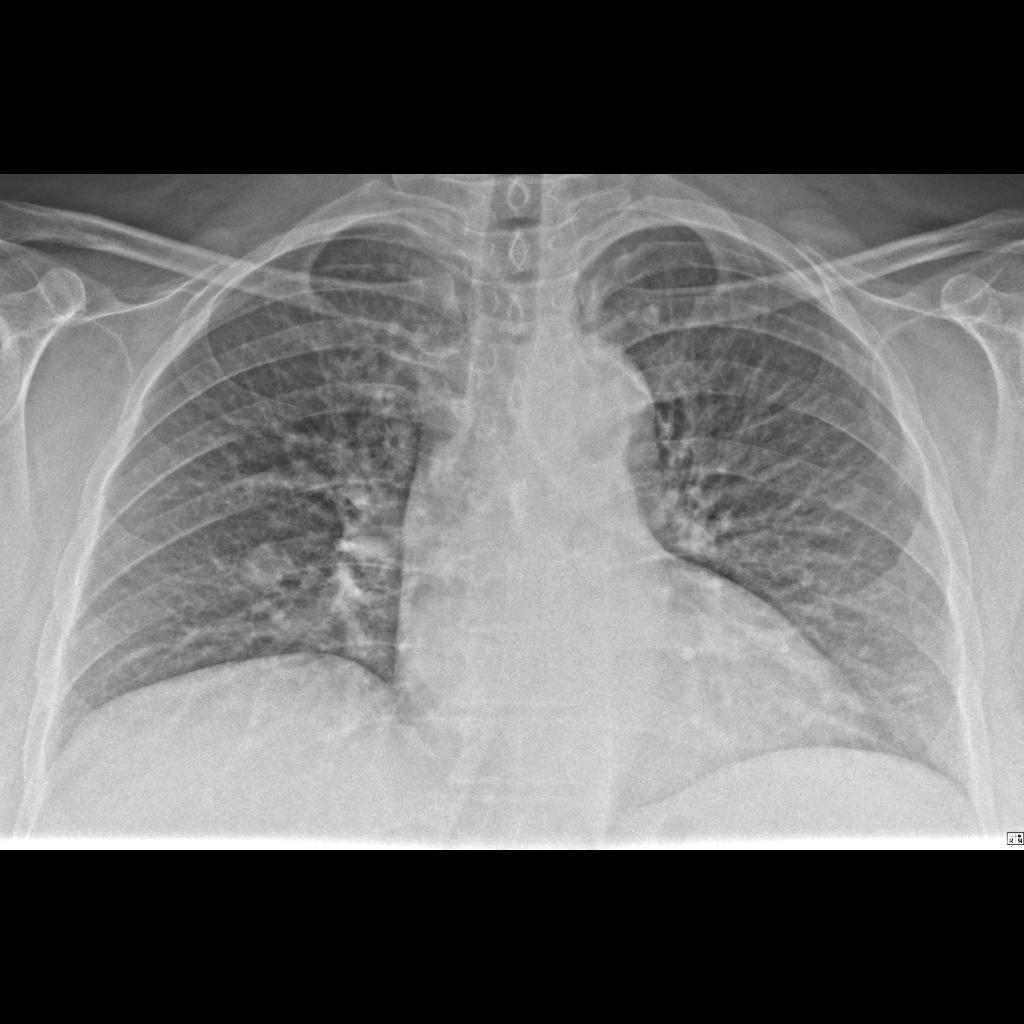Nodule: (233, 538, 299, 604)
